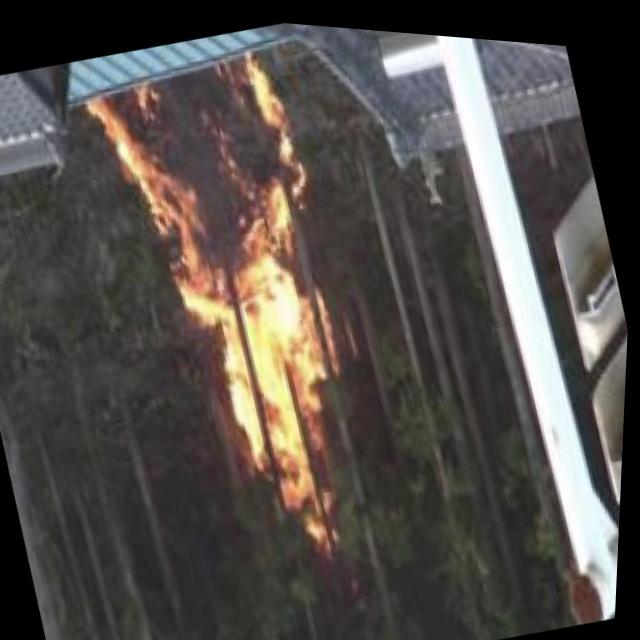Fire: (74, 30, 406, 573)
